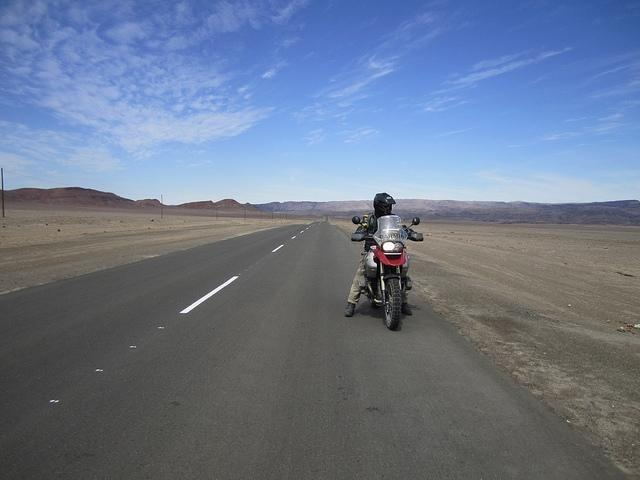motorcycle: (350, 215, 424, 331)
